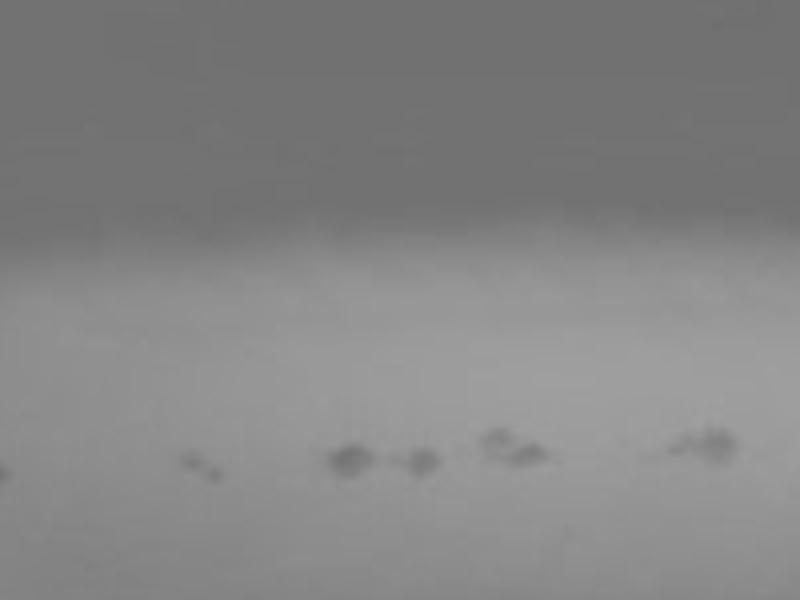defect: (691, 425, 744, 472), (329, 443, 377, 489), (506, 447, 551, 471), (406, 447, 439, 479), (481, 425, 513, 444), (182, 449, 205, 473), (206, 468, 229, 488), (668, 437, 687, 461), (1, 461, 11, 487)
